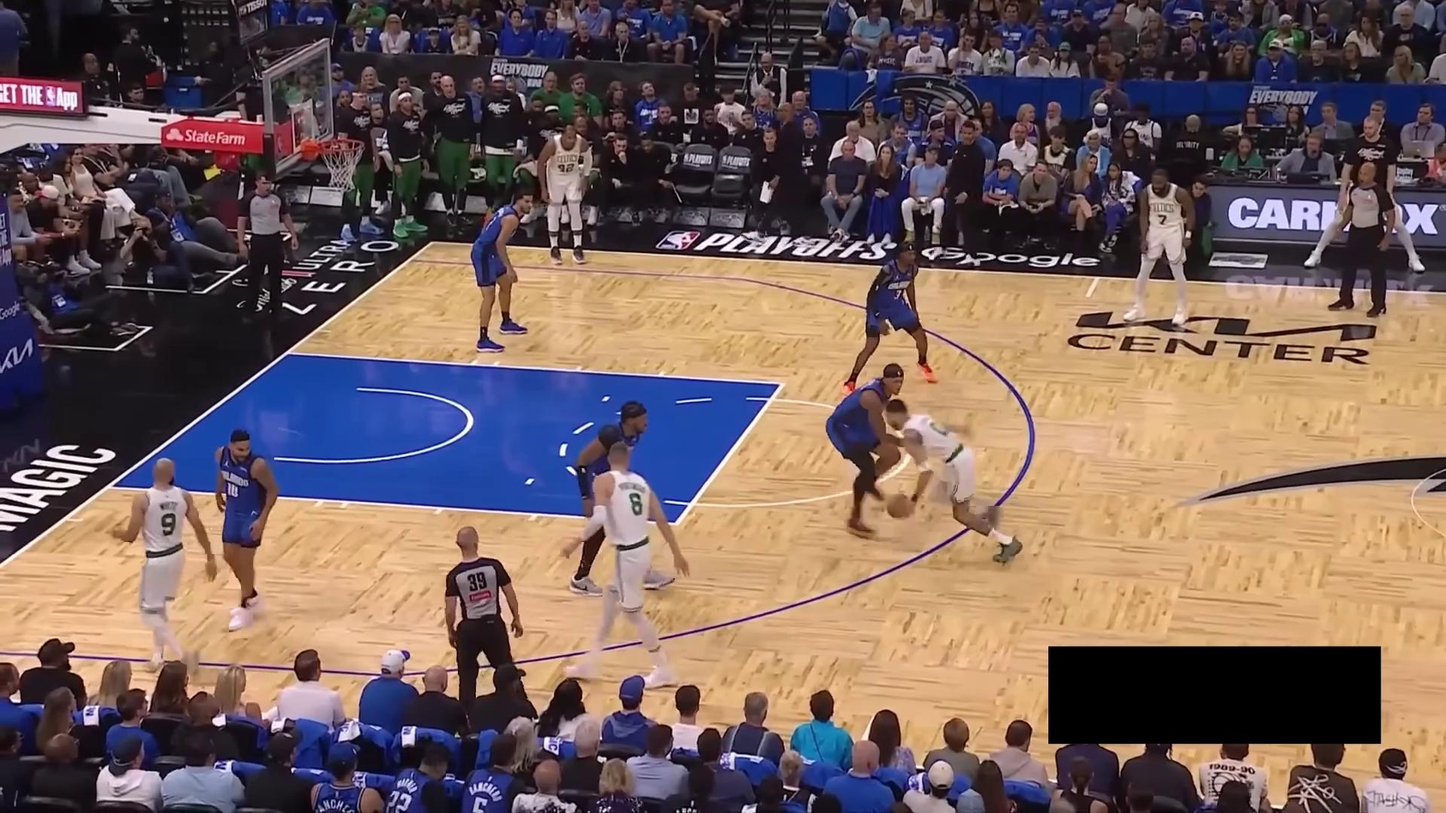ball: (886, 493, 910, 519)
number: (160, 513, 178, 537), (629, 492, 645, 517), (226, 480, 239, 499), (557, 163, 574, 173), (1158, 214, 1167, 225), (893, 289, 902, 300)
player: (557, 439, 694, 694), (108, 452, 220, 677), (565, 398, 676, 598), (822, 359, 907, 542), (839, 240, 932, 401), (210, 429, 279, 635), (464, 186, 542, 358), (1123, 165, 1201, 329), (534, 116, 599, 267)
player-in-possession: (883, 392, 1024, 566)
referee: (441, 524, 525, 691), (1324, 161, 1401, 318), (230, 163, 302, 320)
rim: (313, 136, 366, 152)
